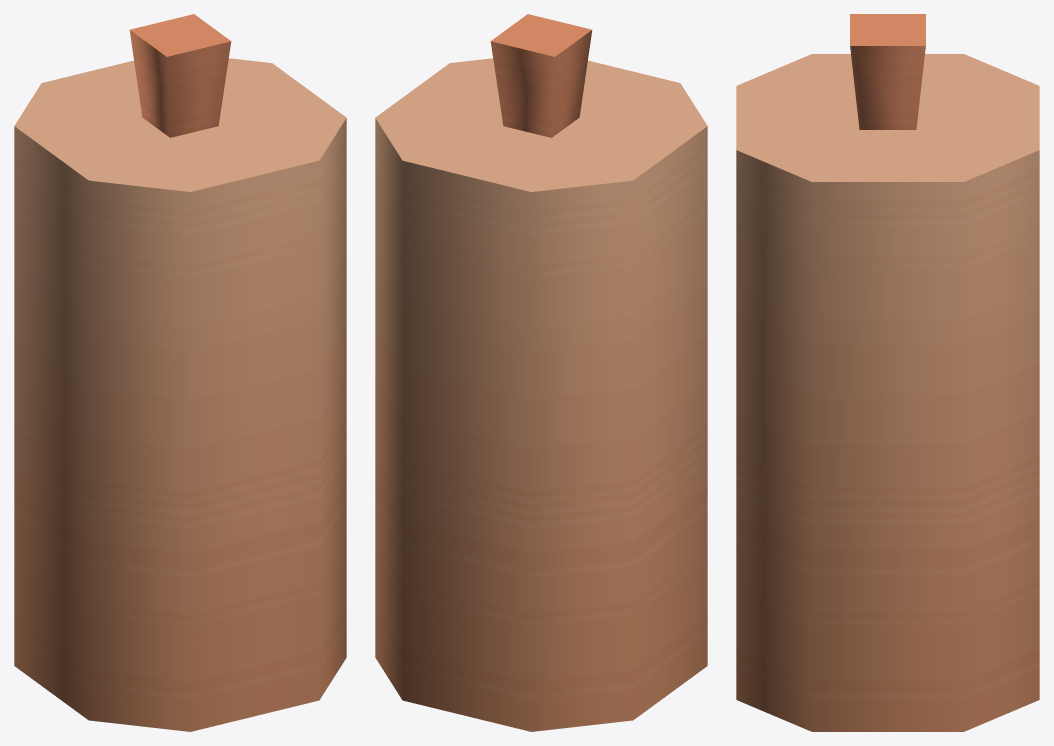
The model's file is candle.glb.
3 views of the same model, side by side, from view 1: azimuth 30°, elevation 25°; view 2: azimuth 150°, elevation 25°; view 3: azimuth 270°, elevation 25° (orthographic).
Parts seen in each view (by area): view 1: candle; view 2: candle; view 3: candle.
Part boxes in pixels (x1=…): candle: x1=14, y1=14, x2=346, y2=731; candle: x1=375, y1=14, x2=707, y2=731; candle: x1=736, y1=14, x2=1039, y2=731.
Size of the model in its own units: 0.15 by 0.348 by 0.15.
1 material, 1 textured.
